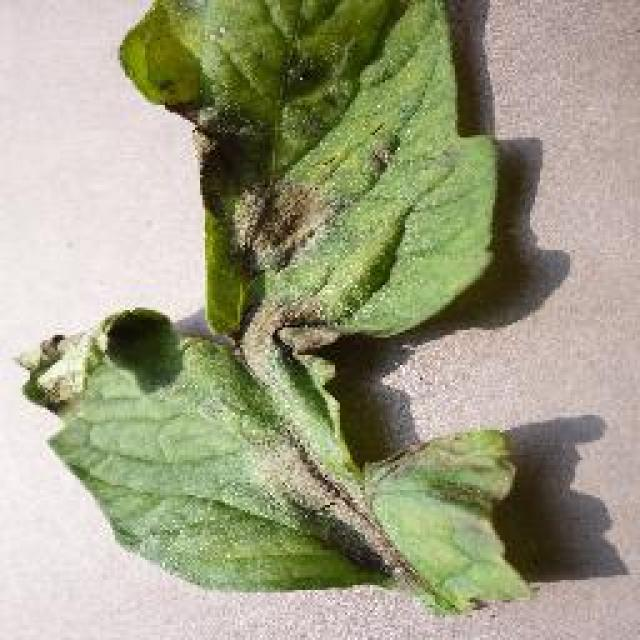Tomato Late Blight: (82, 146, 490, 556)
